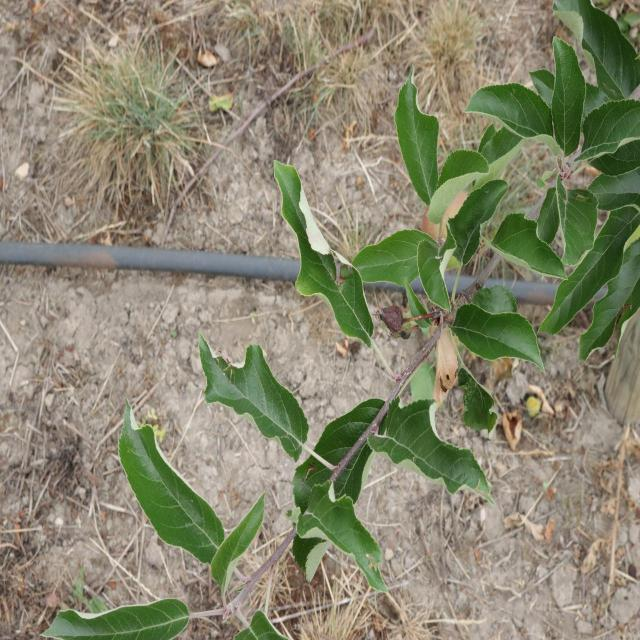-FireBlight-: (433, 323, 459, 404)
